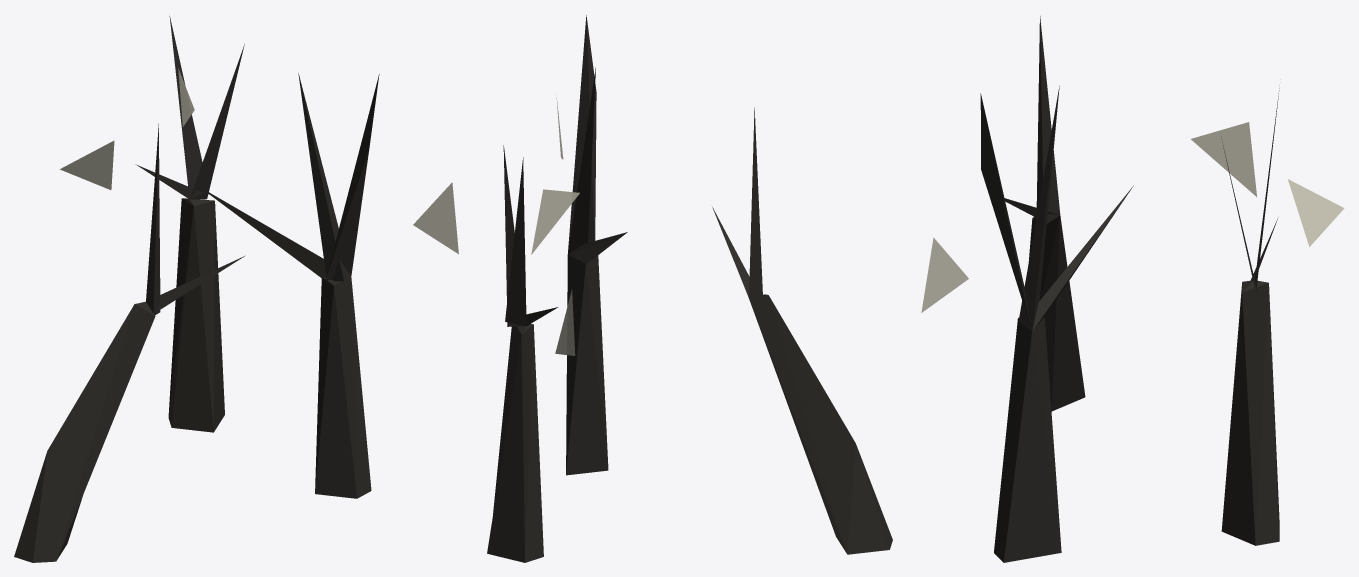
The model's file is lensbomen.lod2.glb.
3 views of the same model, side by side, from view 1: azimuth 30°, elevation 25°; view 2: azimuth 150°, elevation 25°; view 3: azimuth 270°, elevation 25° (orthographic). The views are drawn at different scales.
Parts seen in each view (by area): view 1: lod2; view 2: lod2; view 3: lod2.
Boxes of the visible parts, <box> form: lod2: <box>14,16,458,562</box>; lod2: <box>487,15,892,562</box>; lod2: <box>921,16,1344,562</box>.
Bounding box in the file's own units: 4.91 × 5.19 × 4.24.
